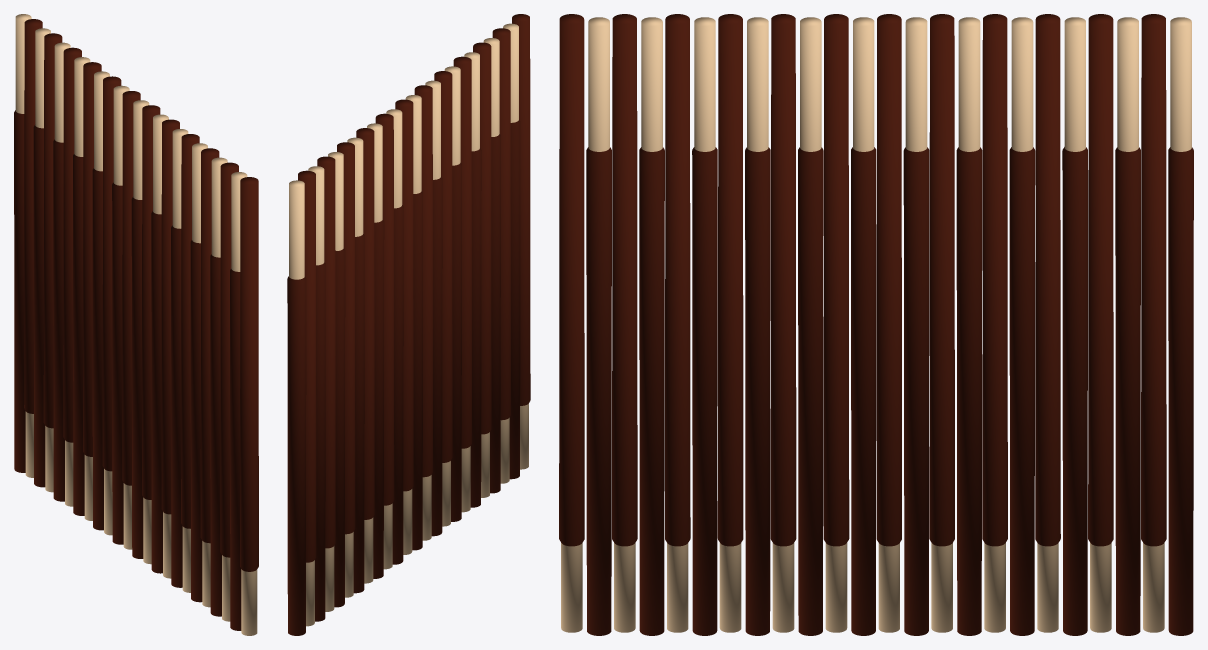
The model's file is pokki_wall.fbx.
3 renders of one model, left to right at view 1: azimuth 30°, elevation 25°; view 2: azimuth 150°, elevation 25°; view 3: azimuth 270°, elevation 25°, orthographic. The views are drawn at different scales.
Visible parts, largest first — view 1: 円柱.004; view 2: 円柱.004; view 3: 円柱.004.
Boxes of the visible parts, bbox=[...] form: 円柱.004: bbox=[14, 14, 258, 635]; 円柱.004: bbox=[287, 14, 530, 635]; 円柱.004: bbox=[559, 14, 1193, 635].
Bounding box in the file's own units: 1.72 × 45.33 × 42.64.
